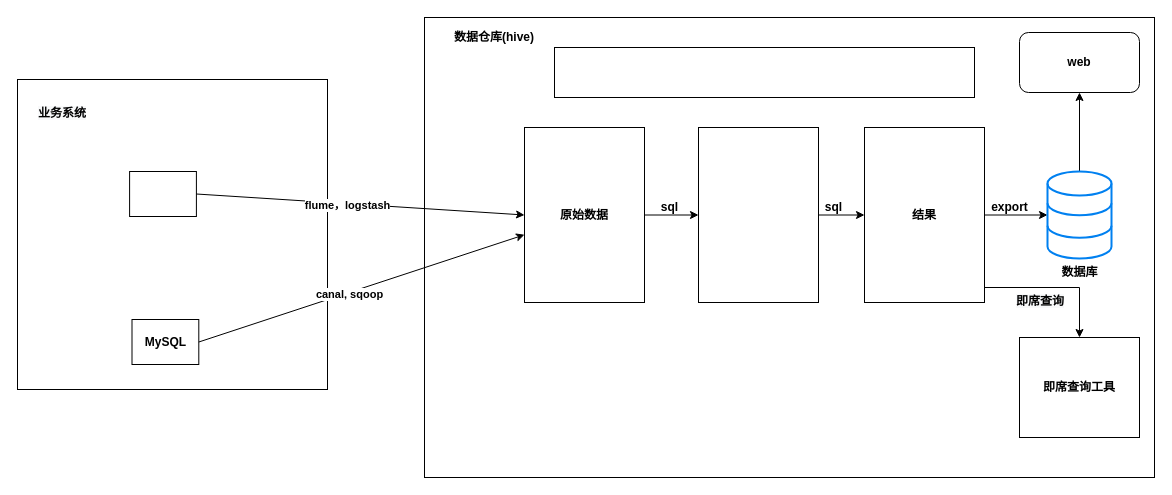
Image size: 1172x495. Some labels were removed from this diagram. The box of each missing label's shape, as (x1, y1, x2, y2) in pixels:
log: (129, 170, 196, 216)
聚合后的数据: (698, 126, 818, 302)
调度工具：ooize / azkaban: (554, 46, 974, 98)
